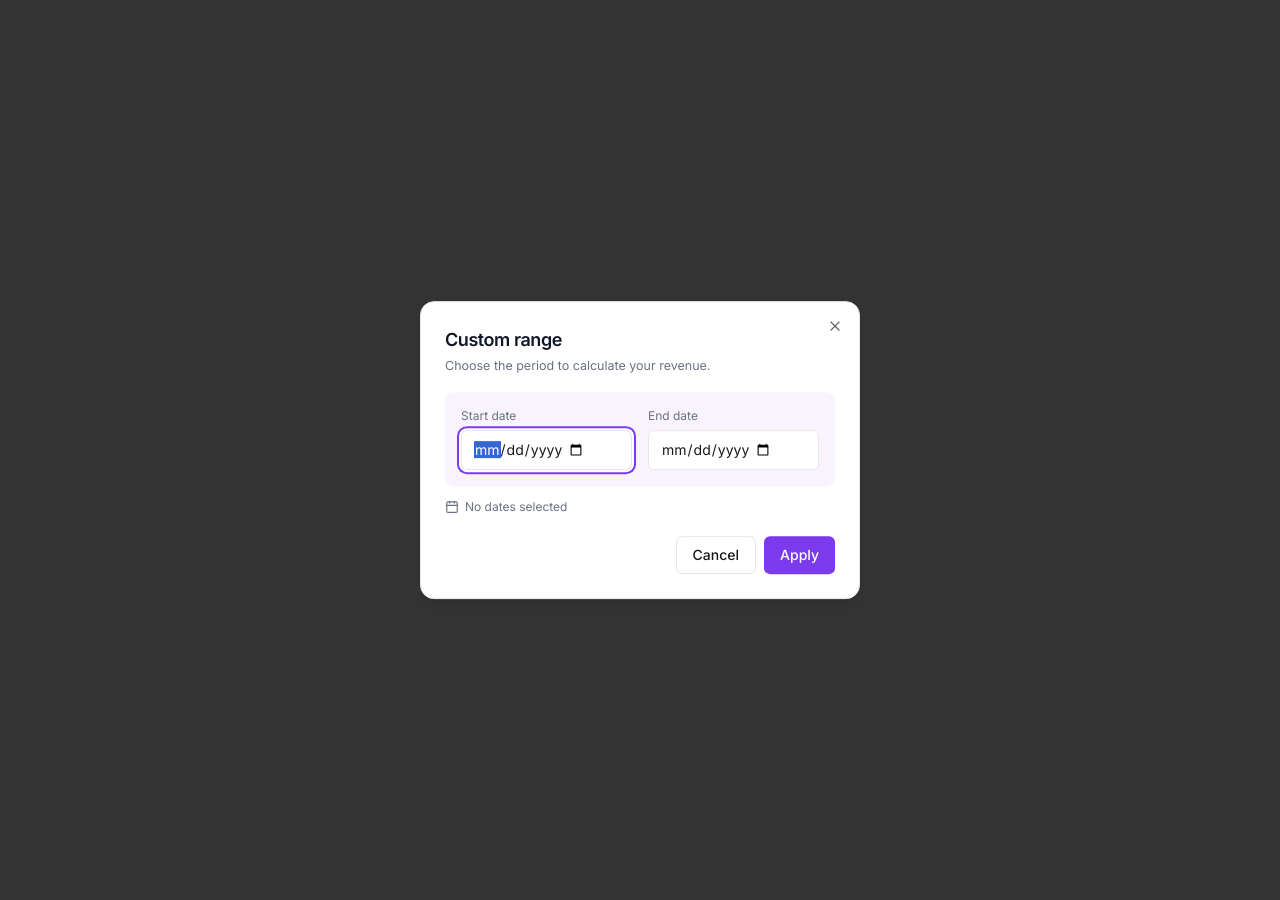
Scenario: CustomRangeModal › refuses a start after the end and stays open
Type "2024-01-20" into the date field labelled "Start date" at point(546, 450), box top-left (461, 430), bottom-right (632, 470)
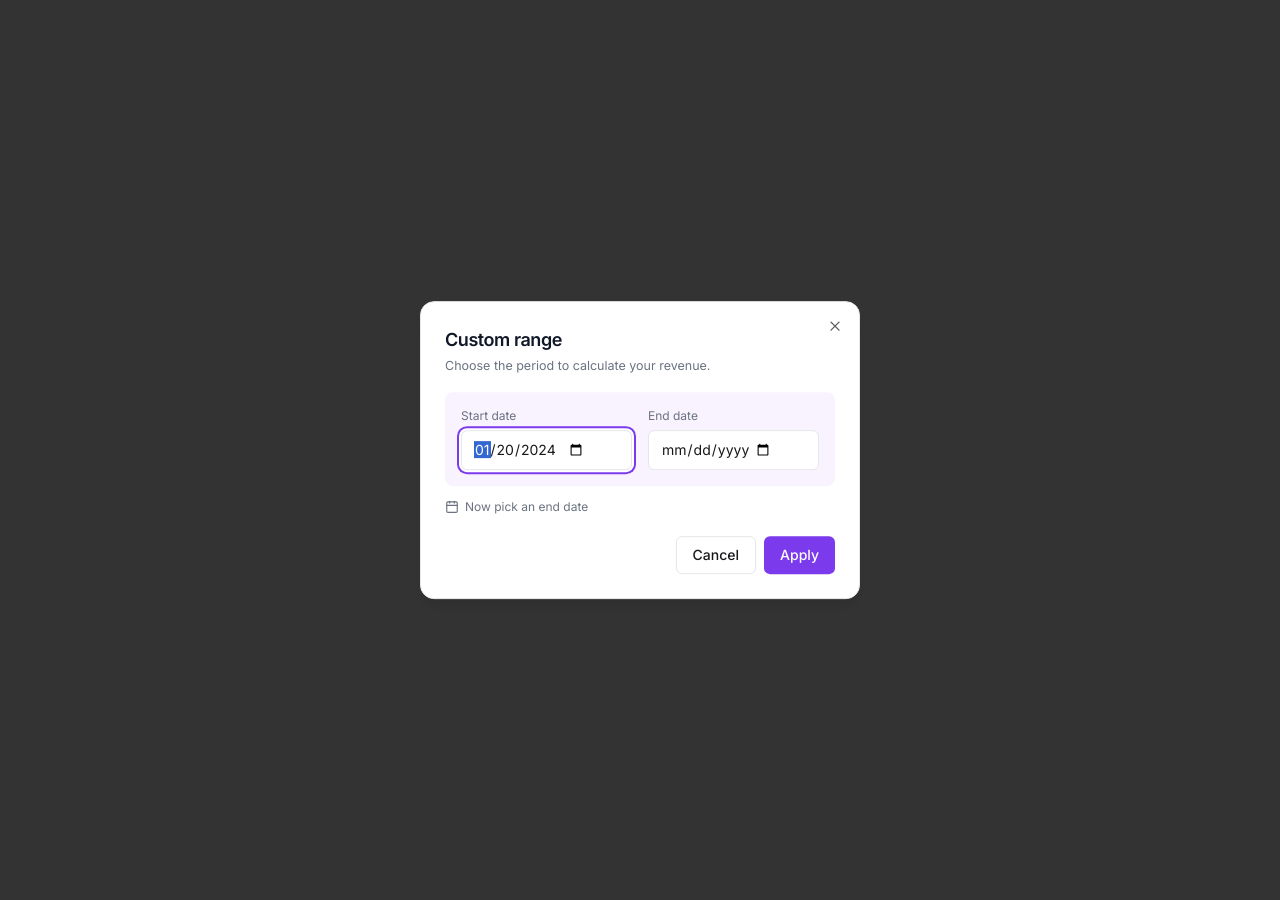
Type "2024-01-05" into the date field labelled "End date" at point(734, 450), box top-left (648, 430), bottom-right (819, 470)
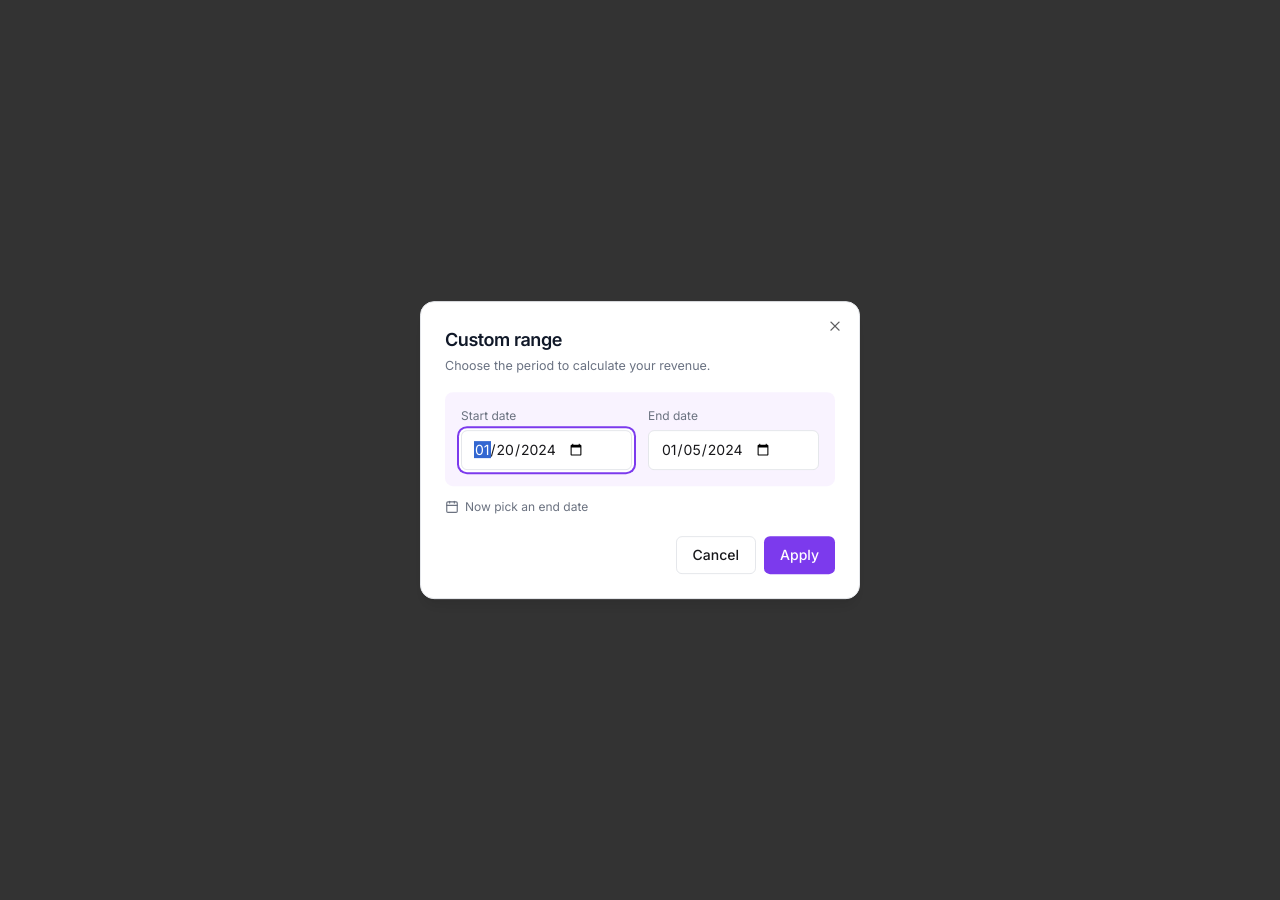
Now the text "Now pick an end date" is shown, box top-left (465, 498), bottom-right (588, 516)
Click the button "Apply" at point(800, 555), box top-left (764, 536), bottom-right (835, 574)
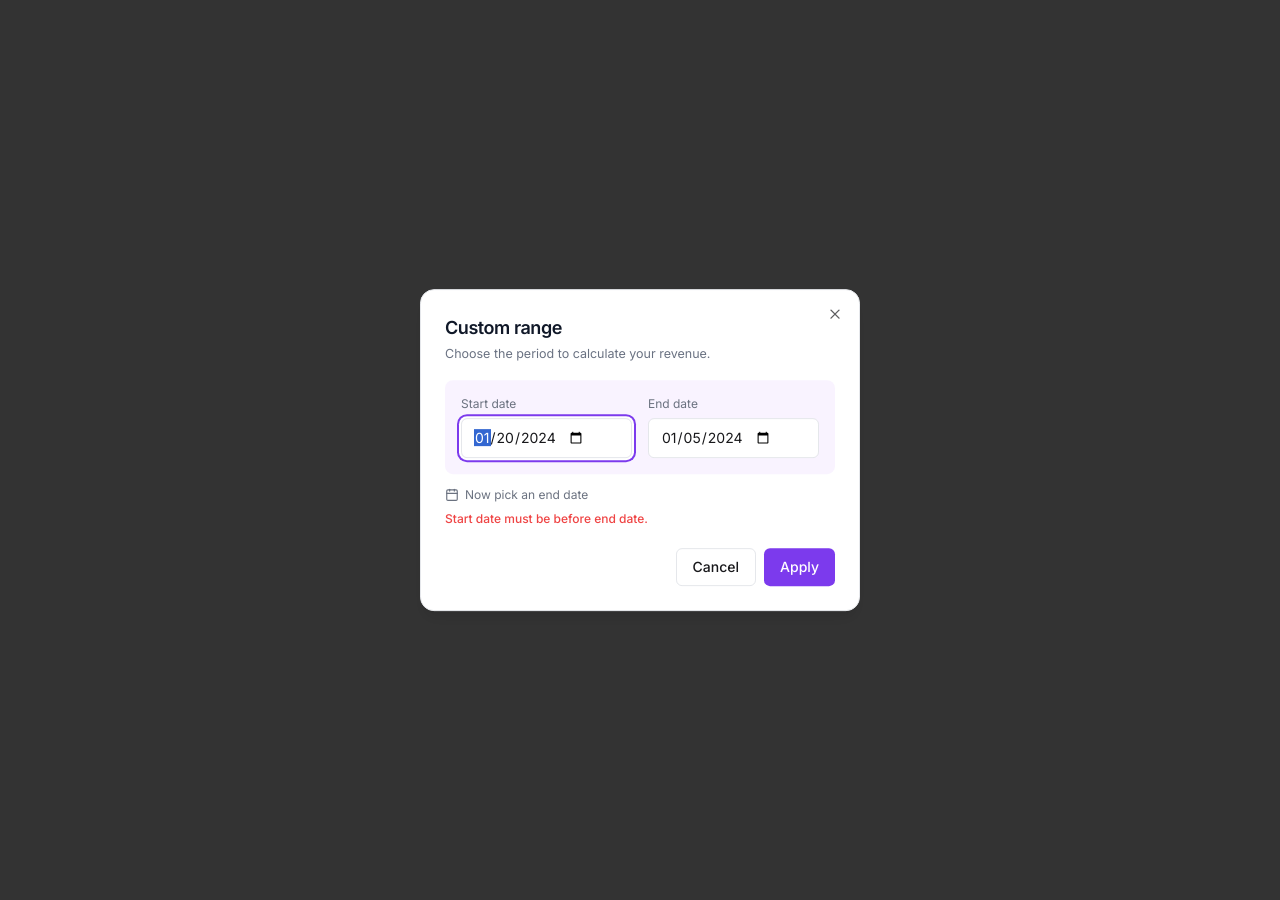
Expected: the dialog "Custom range" is shown, top-left (420, 289), bottom-right (860, 611)
Now the message reads "Start date must be before end date.", box top-left (445, 511), bottom-right (648, 526)
Type "2024-01-30" into the date field labelled "End date" at point(734, 438), box top-left (648, 418), bottom-right (819, 458)
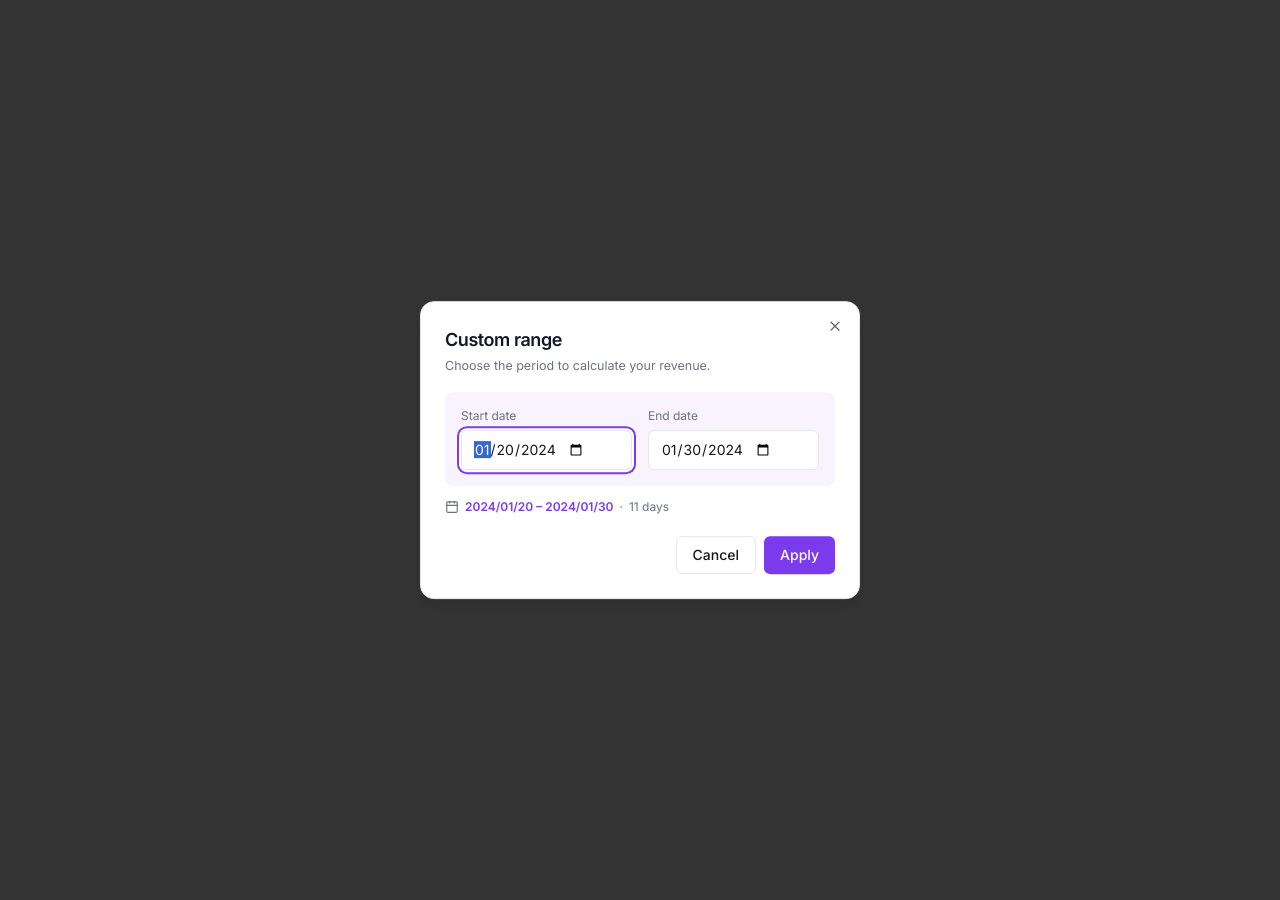
Now the message "Start date must be before end date." is gone
Now the text "2024/01/20 – 2024/01/30" is shown, box top-left (465, 498), bottom-right (614, 516)
